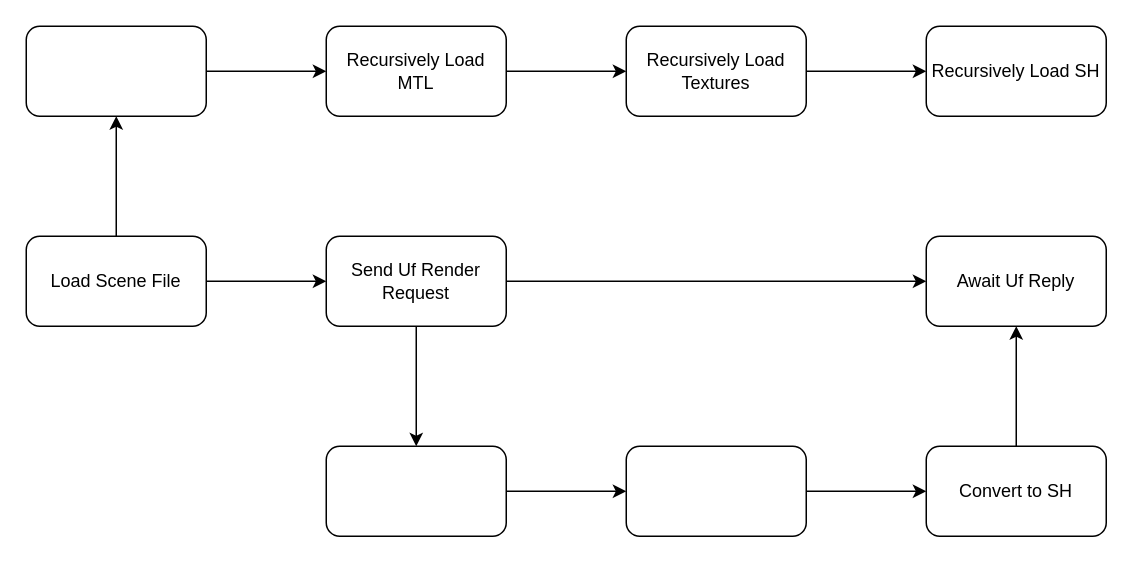
The diagram is 1133 pixels wide and 563 high, and some of its shapes have lost their labels. Each missing label, with the centre of its shape:
"Load EXR" goes at (715,490).
"Recursively Load OBJ" goes at (115,70).
"Start Corona" goes at (415,490).
